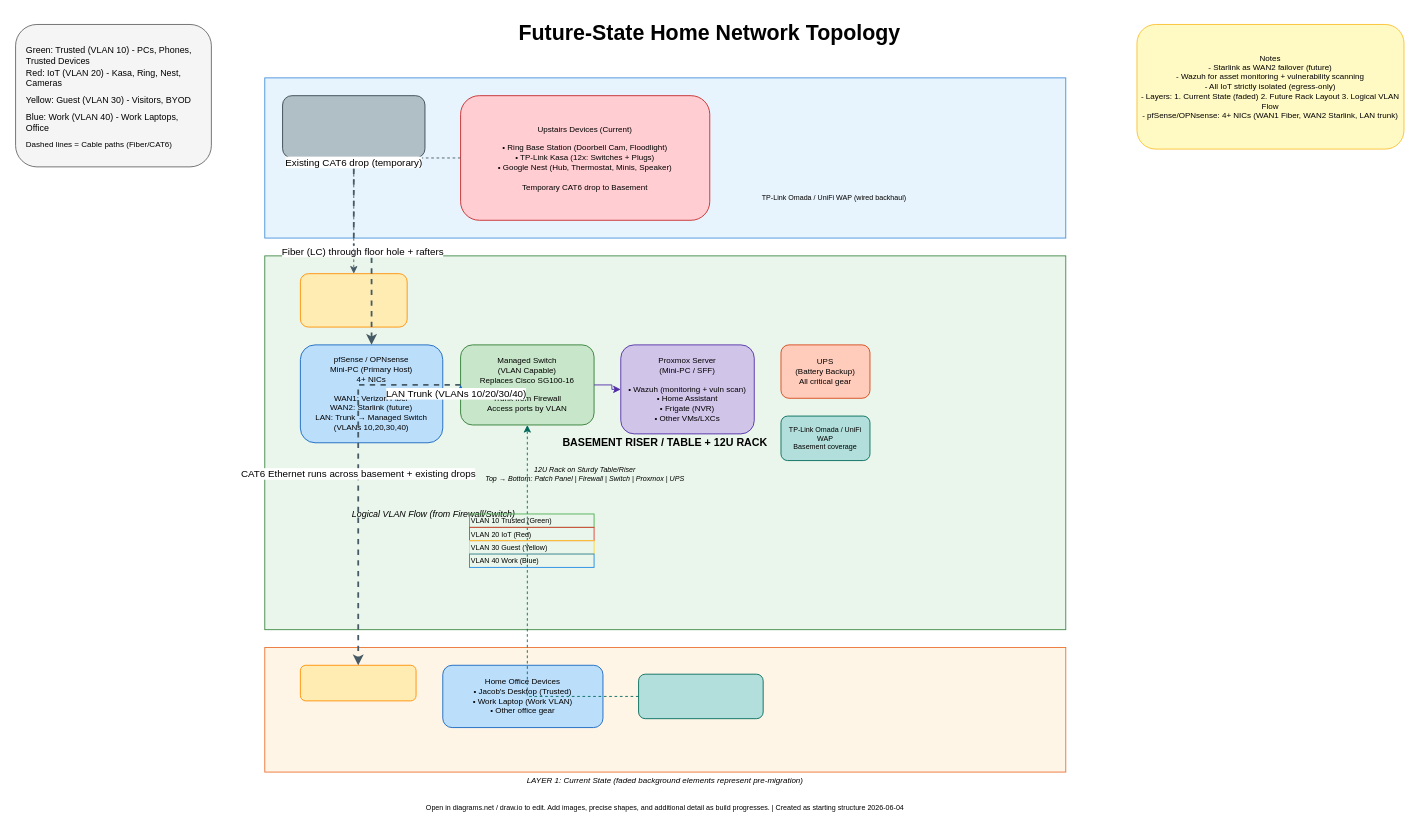
This 1420x831 diagram has some shape labels left out. The shapes that lost their labels are listed below. From the top down, each one's box as (x1, y1, x2, y2) in pixels, then its label:
(15, 24, 211, 167): Legend & VLAN Color Code
(282, 95, 425, 158): Verizon FIOS ONT (Upstairs Living Room) Fiber LC → Floor hole → Basement
(264, 77, 1066, 238): UPSTAIRS LIVING ROOM (Current Devices)
(299, 273, 407, 327): Patch Panel (Top of Rack) CAT6 terminations
(299, 664, 416, 701): Existing 5-port Switch
(638, 673, 763, 719): TP-Link Omada WAP (Wired back to Basement Rack)
(264, 647, 1066, 772): HOME OFFICE (Opposite Side of House)
